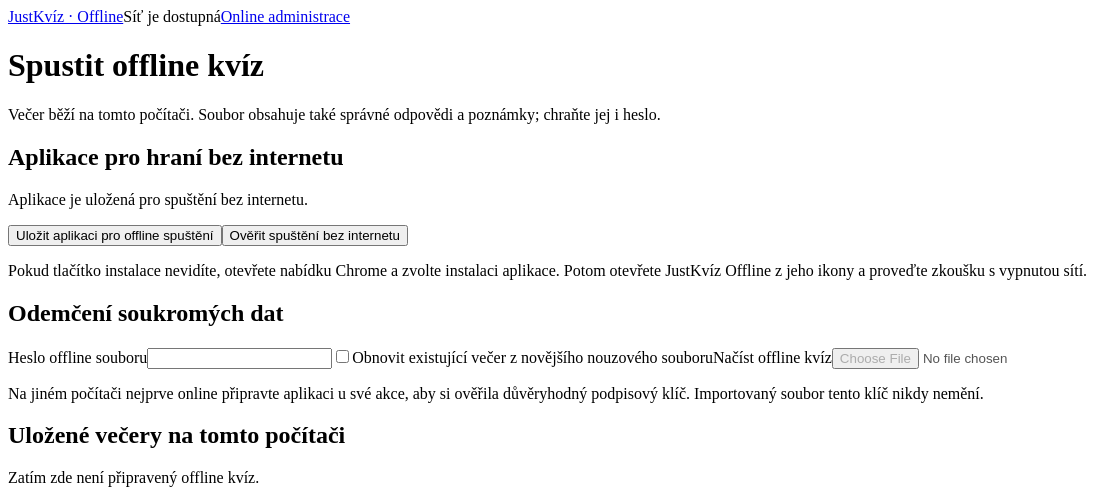
Test: keeps a new route task active when the previous route task rejects
Later steps or results of the test are not shown.
Click the button "Uložit aplikaci pro offline spuštění" at (115, 235), box [8,225,222,246]
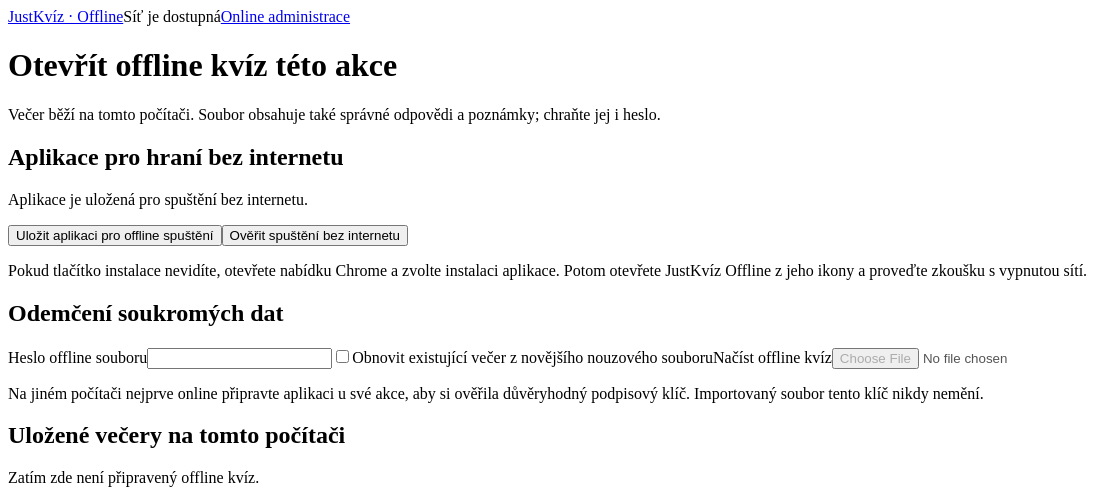
Now the text "Otevřít offline kvíz této akce" is shown, box [8,47,397,83]
